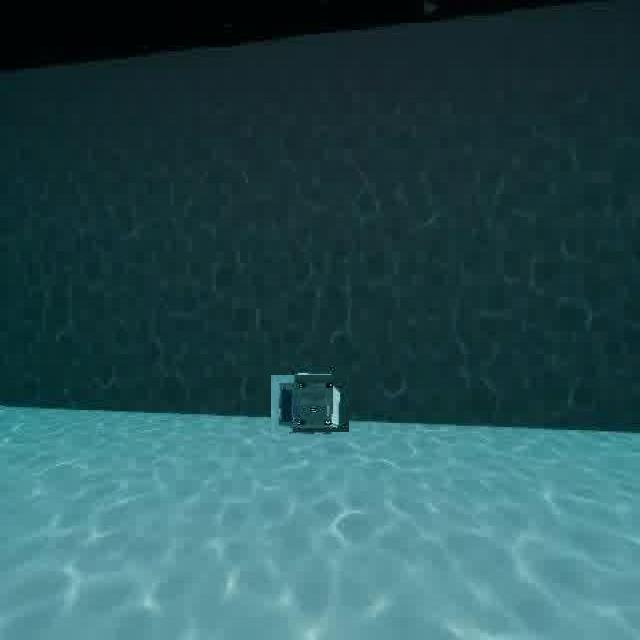Docking Station: (276, 370, 344, 438)
